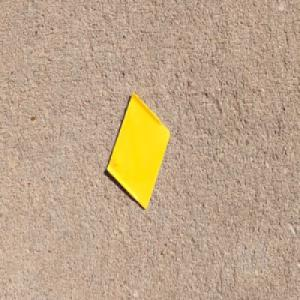PlasticPart: (106, 91, 170, 211)
